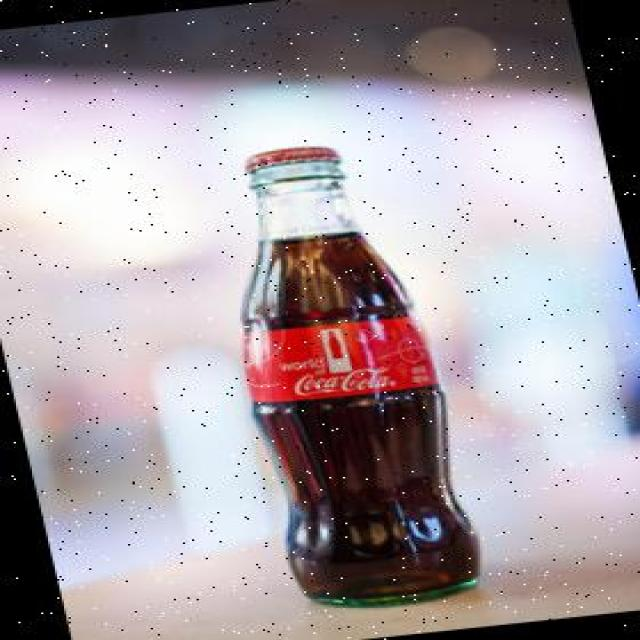coca-cola: (176, 128, 507, 620)
